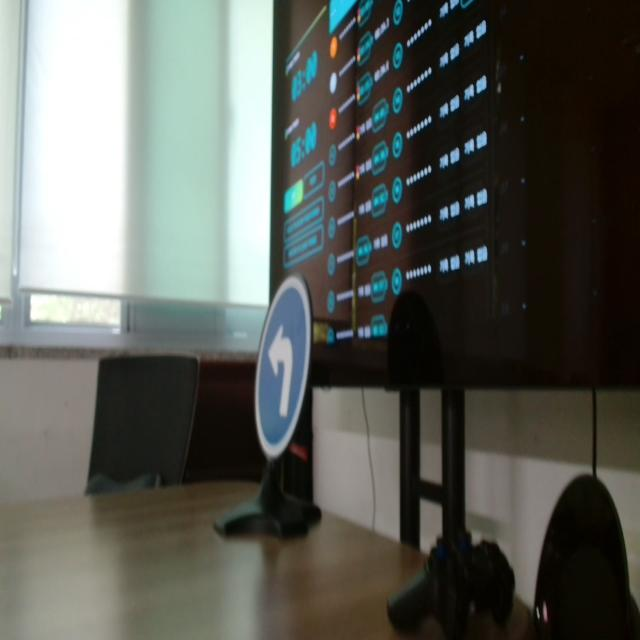left_direction: (252, 274, 312, 456)
